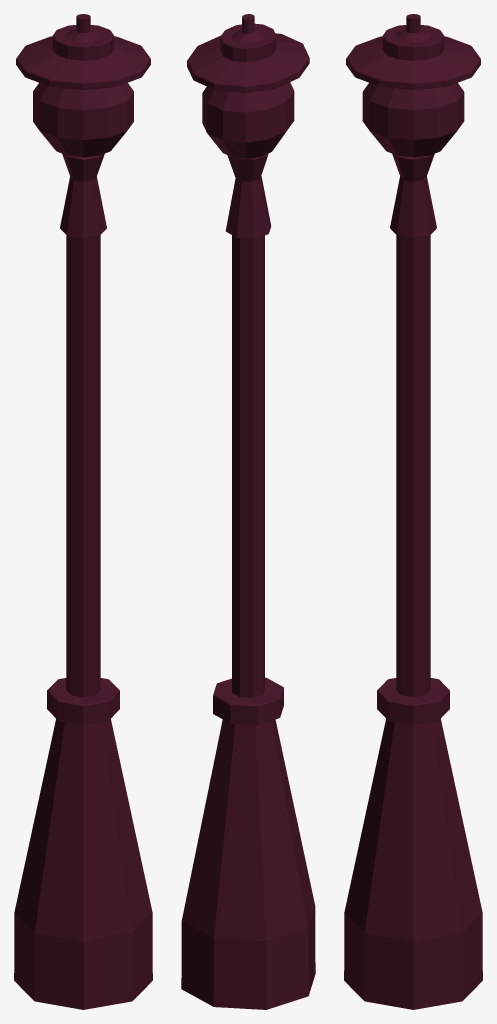
The model's file is Lamp3.obj.
3 renders of one model, left to right at view 1: azimuth 90°, elevation 25°; view 2: azimuth 150°, elevation 25°; view 3: azimuth 270°, elevation 25°, orthographic.
Visible parts, largest first — view 1: 3_low; view 2: 3_low; view 3: 3_low.
Boxes of the visible parts, x1=… form: 3_low: x1=14, y1=14, x2=152, y2=1009; 3_low: x1=181, y1=14, x2=315, y2=1009; 3_low: x1=344, y1=14, x2=482, y2=1009.
Bounding box in the file's own units: 0.431 × 3.3 × 0.431.
